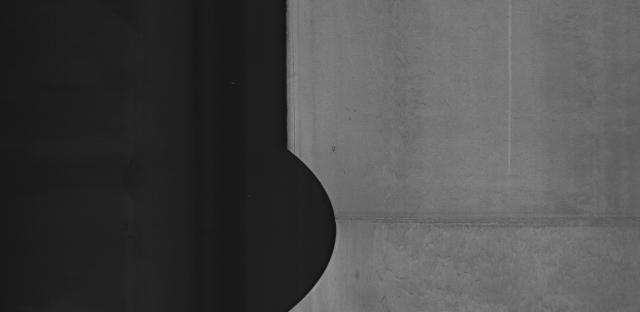crescent_gap: (233, 139, 344, 312)
welding_line: (335, 200, 640, 237)
